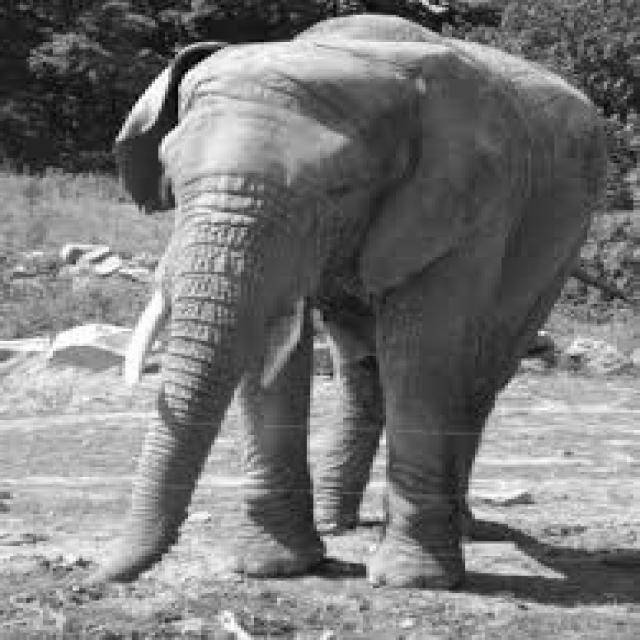Elephant: (82, 10, 614, 590)
